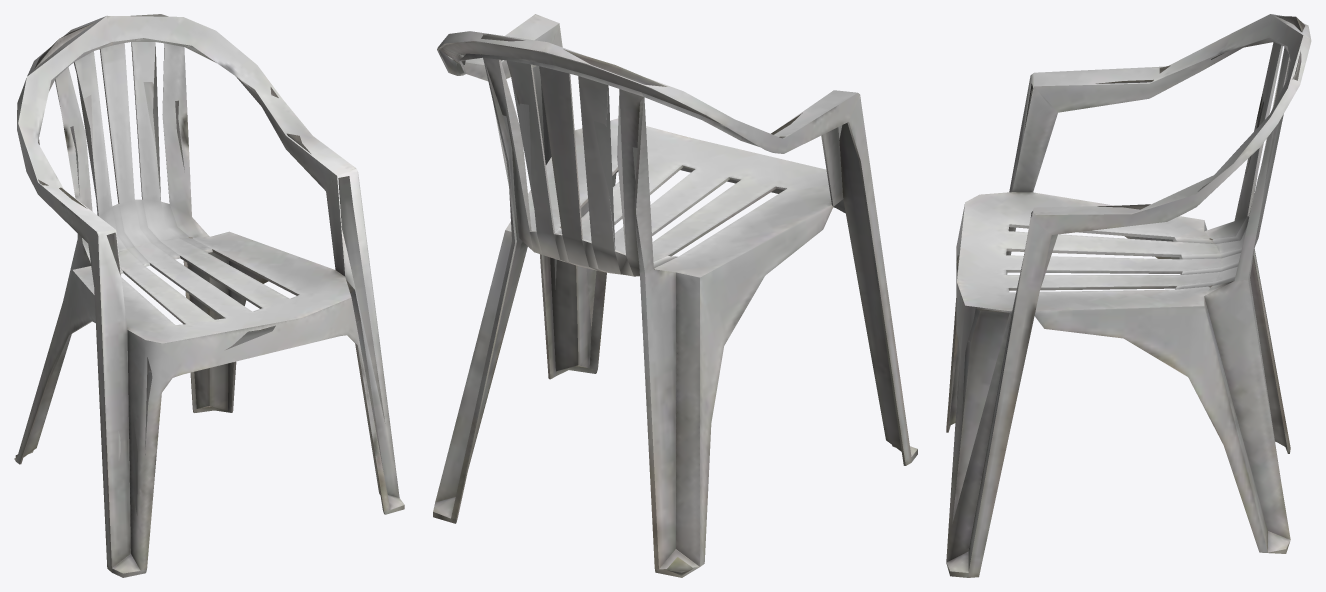
Rendered from monobloc.glb.
3 renders of one model, left to right at view 1: azimuth 30°, elevation 25°; view 2: azimuth 150°, elevation 25°; view 3: azimuth 270°, elevation 25°, orthographic. The views are drawn at different scales.
Visible parts, largest first — view 1: plastic_monobloc_chair_01; view 2: plastic_monobloc_chair_01; view 3: plastic_monobloc_chair_01.
Boxes of the visible parts, box(x1,y1,x2,y2) form: plastic_monobloc_chair_01: box(14, 14, 404, 577); plastic_monobloc_chair_01: box(433, 14, 917, 577); plastic_monobloc_chair_01: box(946, 14, 1311, 577).
Bounding box in the file's own units: 0.6419 × 0.8798 × 0.6276.
Materials: 1 (1 with a texture image).
